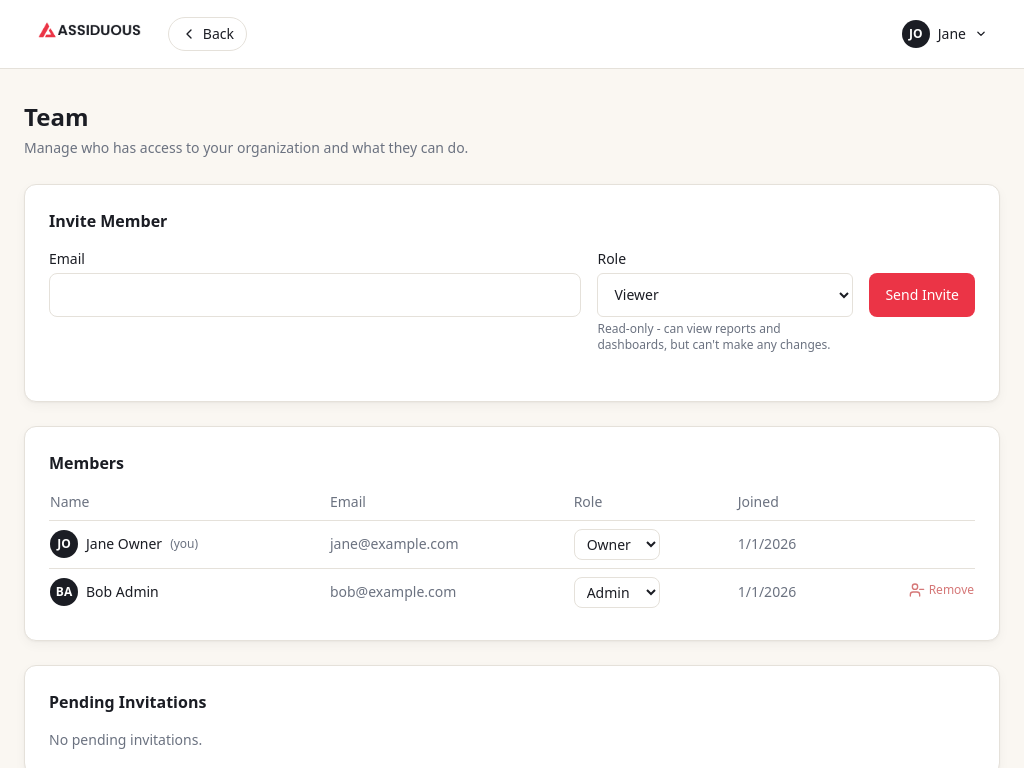
Test case: TeamSettingsView › shows the backend error and keeps the modal open when removing a member fails
The image size is (1024, 768).
Click the button "Remove" at (941, 590), box [909, 582, 974, 598]
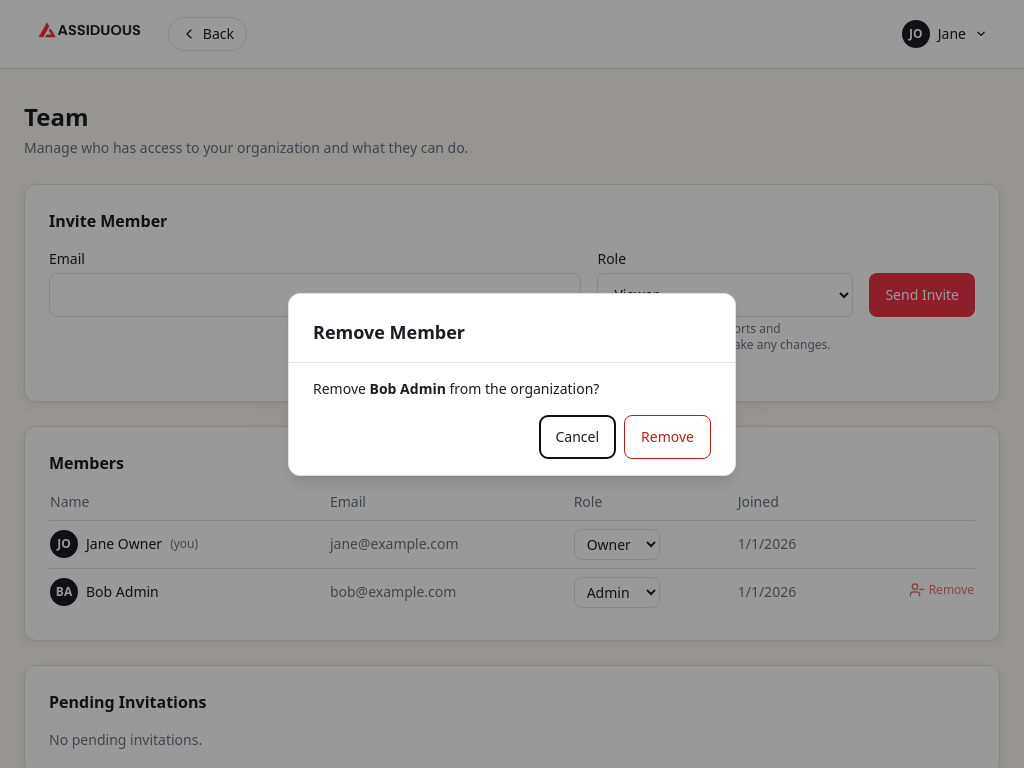
Click the button "Remove" at (668, 436), box [624, 414, 711, 458]
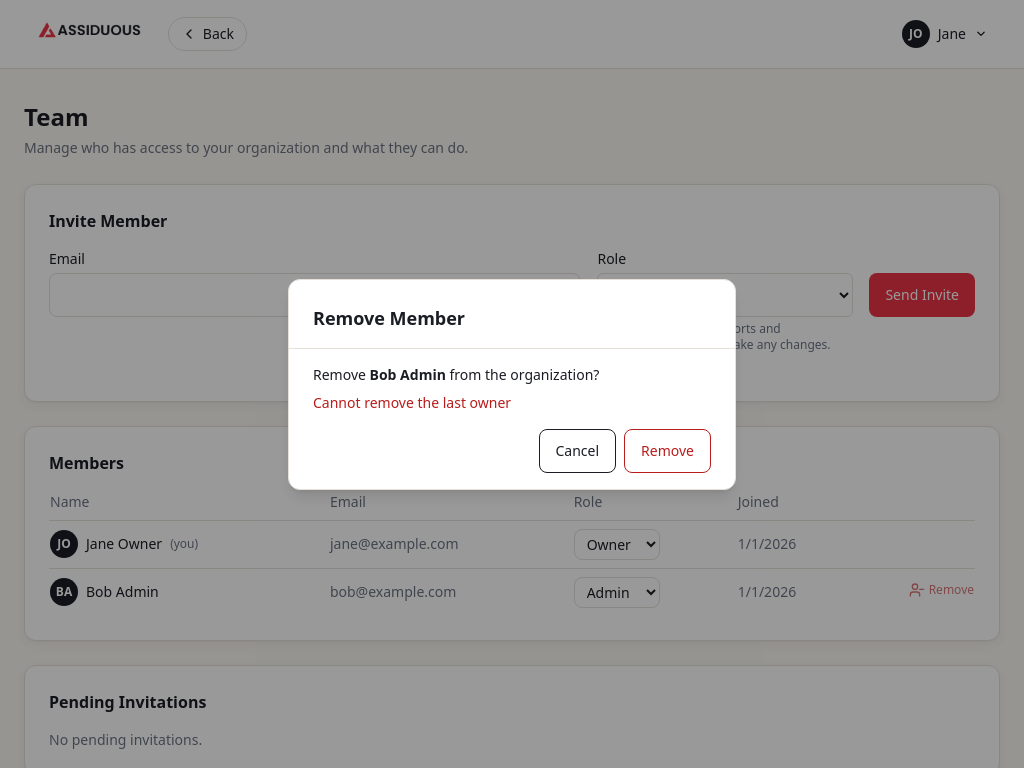
Expected: the text "Bob Admin" is shown, [86, 582, 159, 601]
Result: the text "Cannot remove the last owner" is shown at [313, 392, 511, 412]
